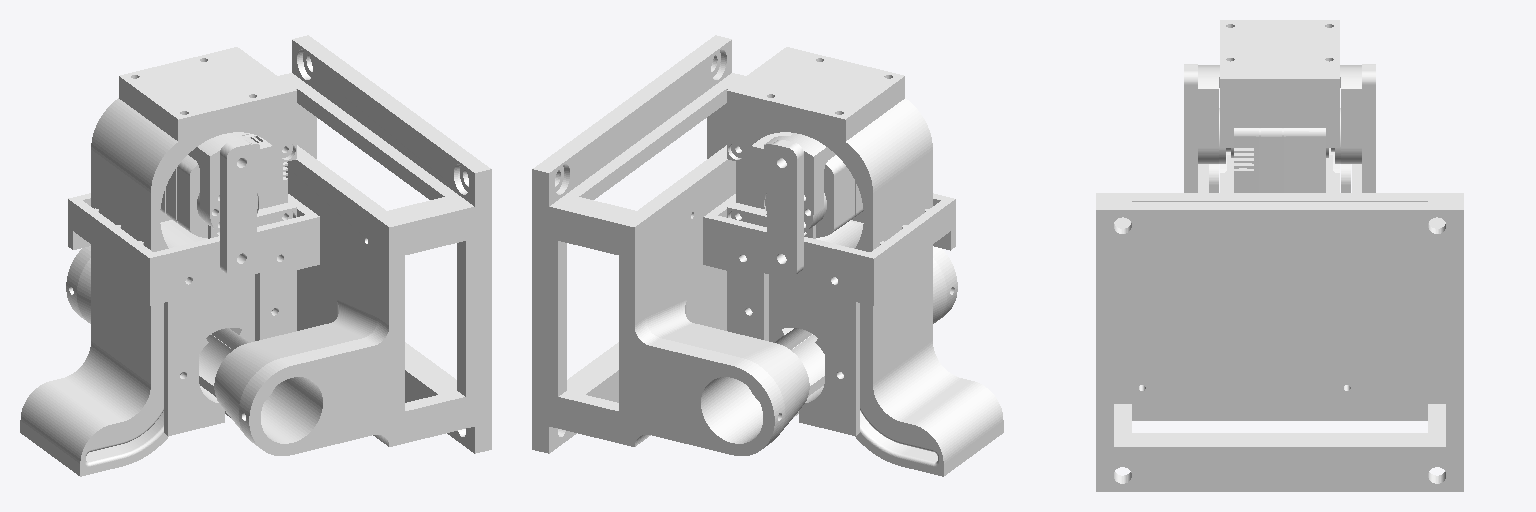
robot.urdf — khrsugihara:
<?xml version="1.0"?>
<robot name="khrsugihara"
       xmlns:xi="http://www.w3.org/2001/XInclude">
  <link name="DOCKING_PIPE">
    <visual>
      <origin xyz="0 0 0" rpy="0 -0 0"/>
      <geometry>
        <mesh filename="package://kxr_robot_description/model/khrsugihara/mesh/real/combining_pipe_mount_khr_parallel.STL" scale="0.001 0.001 0.001" />
      </geometry>
      <material name="white">
        <color rgba="1.0 1.0 1.0 1.0"/>
      </material>
    </visual>
    <collision>
      <origin xyz="0 0 0" rpy="0 -0 0"/>
      <geometry>
        <mesh filename="package://kxr_robot_description/model/khrsugihara/mesh/real/combining_pipe_mount_khr_parallel.STL" scale="0.001 0.001 0.001" />
      </geometry>
    </collision>
    <inertial>
      <mass value="0.1" />
      <origin xyz="0 0 0" rpy="0 0 0"/>
      <inertia ixx="0" ixy="0" ixz="0" iyy="0" iyz="0" izz="0"/>
    </inertial>
  </link>

  <link name="DOCKING_HAND">
    <visual>
      <origin xyz="0 0 0" rpy="0 -0 0"/>
      <geometry>
        <mesh filename="package://kxr_robot_description/model/khrsugihara/mesh/real/cam_hand_v6.STL" scale="0.001 0.001 0.001" />
      </geometry>
      <material name="white">
        <color rgba="1.0 1.0 1.0 1.0"/>
      </material>
    </visual>
    <collision>
      <origin xyz="0 0 0" rpy="0 -0 0"/>
      <geometry>
        <mesh filename="package://kxr_robot_description/model/khrsugihara/mesh/real/cam_hand_v6.STL" scale="0.001 0.001 0.001" />
      </geometry>
    </collision>
    <inertial>
      <mass value="0.1" />
      <origin xyz="0 0 0" rpy="0 0 0"/>
      <inertia ixx="0" ixy="0" ixz="0" iyy="0" iyz="0" izz="0"/>
    </inertial>
  </link>

  <link name="FLIGHT_UNIT">
    <visual>
      <origin xyz="0.0905 0 0.025" rpy="0 -0 0"/>
      <geometry>
        <mesh filename="package://kxr_robot_description/model/khrsugihara/mesh/real/kxr_flight_unit_tri.STL" scale="0.001 0.001 0.001" />
      </geometry>
      <material name="white">
        <color rgba="1.0 1.0 1.0 1.0"/>
      </material>
    </visual>
    <collision>
      <origin xyz="0.0905 0 0.025" rpy="0 -0 0"/>
      <geometry>
        <mesh filename="package://kxr_robot_description/model/khrsugihara/mesh/real/kxr_flight_unit_tri.STL" scale="0.001 0.001 0.001" />
      </geometry>
    </collision>
    <inertial>
      <mass value="0.1" />
      <origin xyz="0 0 0" rpy="0 0 0"/>
      <inertia ixx="0" ixy="0" ixz="0" iyy="0" iyz="0" izz="0"/>
    </inertial>
  </link>

  <joint name="DOCKING_JOINT" type="continuous">
    <parent link="DOCKING_PIPE"/>
    <child  link="DOCKING_HAND"/>
    <origin xyz="-0.06752 0 -0.0164" rpy="0 -0 0 "/>
    <axis   xyz="0 1 0"/>
    <limit lower="-3.14159" upper="3.14159" effort="100" velocity="0.5" />
    <dynamics damping="0.2" friction="0" />
  </joint>

  <joint name="FLIGHT_UNIT_JOINT" type="continuous">
    <parent link="DOCKING_HAND"/>
    <child  link="FLIGHT_UNIT"/>
    <origin xyz="0 0 0.08104" rpy="0 -0 0 "/>
    <axis   xyz="0 1 0"/>
    <limit lower="-3.14159" upper="3.14159" effort="100" velocity="0.5" />
    <dynamics damping="0.2" friction="0" />
  </joint>

</robot>

--- Facts derived from the render (not from the file) ---
3 views of the same robot in one strip: view 1: azimuth 30°, elevation 25°; view 2: azimuth 150°, elevation 25°; view 3: azimuth 270°, elevation 25° (orthographic).
Model khrsugihara with 3 links and 2 joints (2 continuous), rooted at DOCKING_PIPE, posed every joint at zero.
Links seen in each view (by area): view 1: DOCKING_HAND, DOCKING_PIPE; view 2: DOCKING_HAND, DOCKING_PIPE; view 3: DOCKING_PIPE, DOCKING_HAND.
Link boxes in pixels (box(x1,y1,x2,y2)): DOCKING_HAND: box(20, 47, 319, 476); DOCKING_PIPE: box(66, 35, 491, 455); DOCKING_HAND: box(703, 47, 1003, 476); DOCKING_PIPE: box(532, 35, 957, 455); DOCKING_PIPE: box(1096, 193, 1463, 491); DOCKING_HAND: box(1184, 20, 1375, 192).
Size in the robot's own frame: 0.1147 by 0.104 by 0.1086 metres.
Meshes: 3 distinct files referenced, 2 mesh visuals loaded (2 binary STL); not drawn: 1 (reference not matched to a file when rendering).
